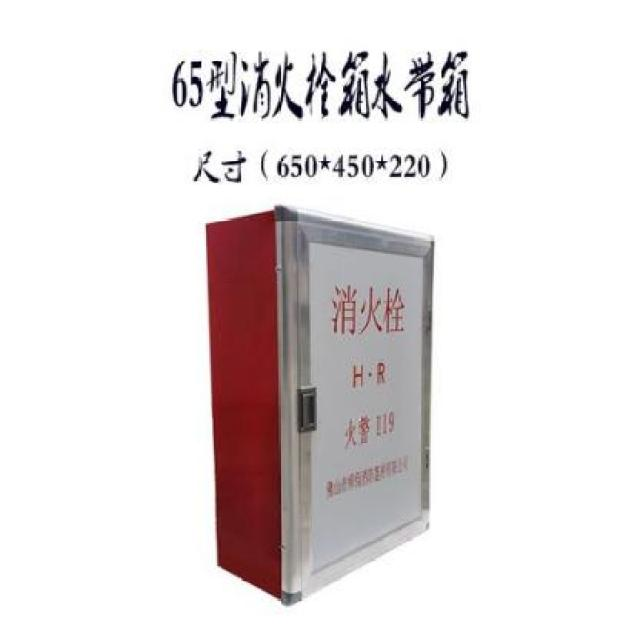firehydrant: (200, 200, 438, 610)
